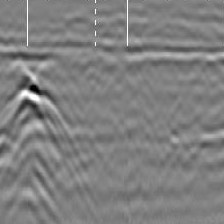Utility: (0, 68, 77, 173)
